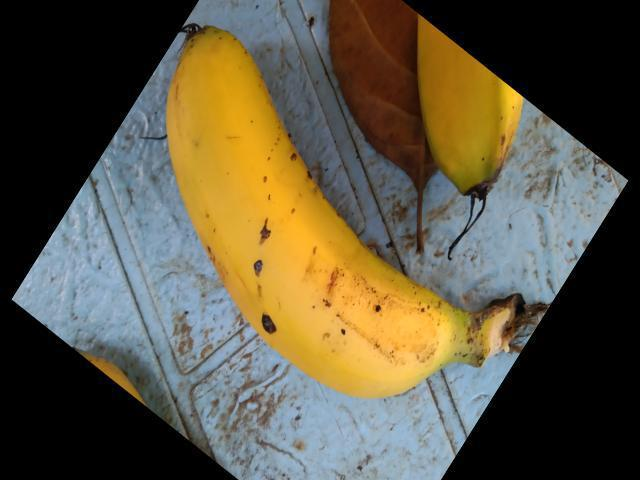ripe: (165, 23, 468, 409)
